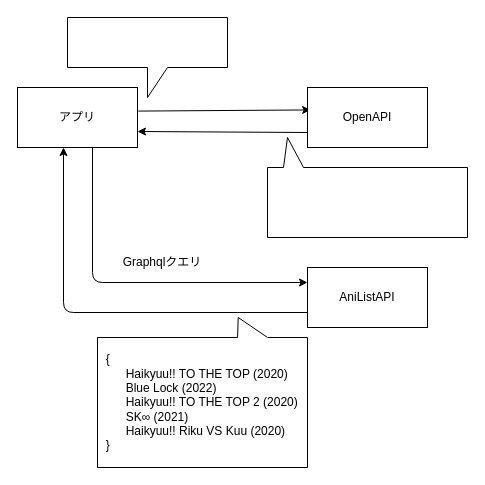
This 485x485 diagram has some shape labels left out. The centre of each missing label's shape, as x and y in pixels:
{ "genre": "Sports", "startDate_greater": 20200101 }: the point at 367,187
「2020年以降のスポーツアニメを教えてください」: the point at 147,57
